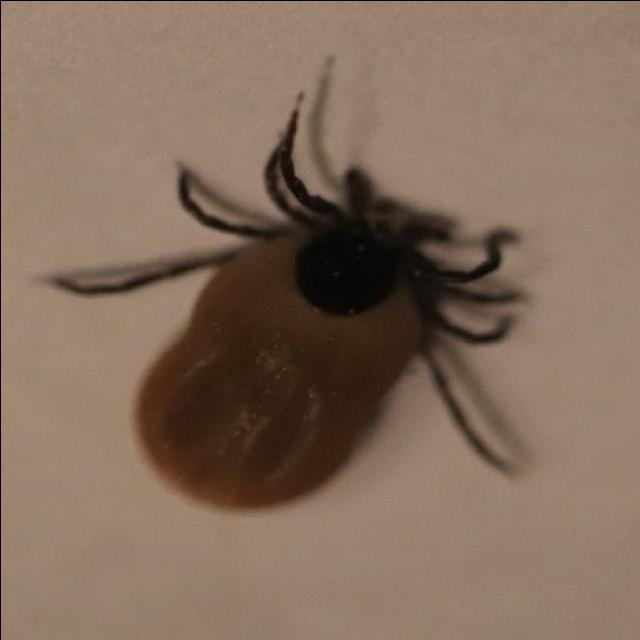Ixodes Ricinus-F-Fed: (42, 90, 531, 515)
